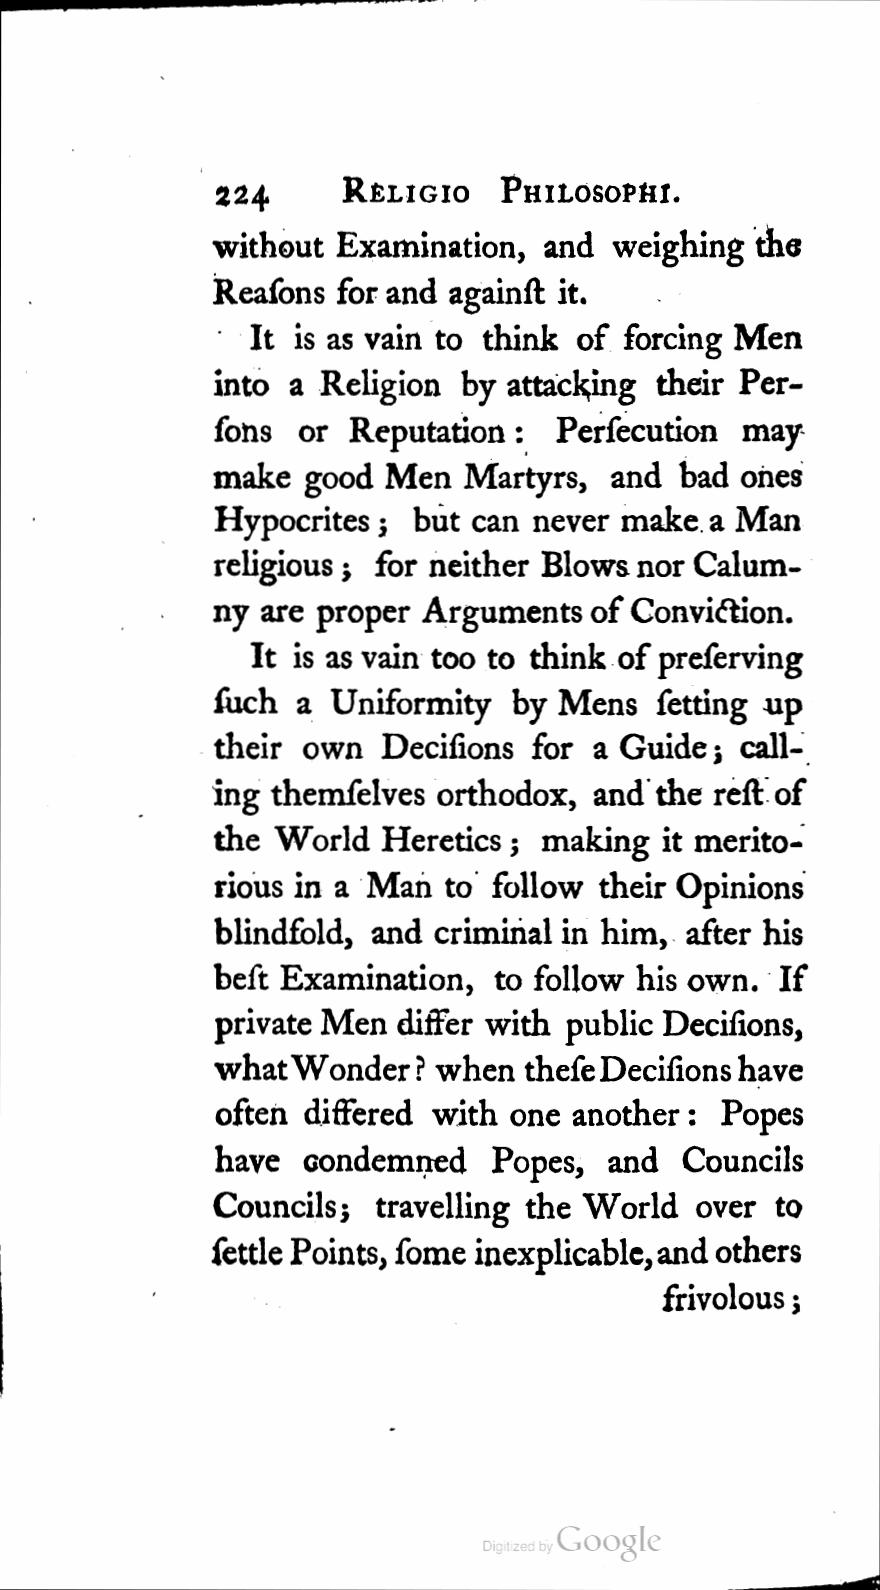bottom_p: (208, 224, 808, 314)
catchword: (658, 1280, 804, 1320)
full_p: (210, 318, 808, 633)
header: (338, 168, 686, 208)
page_num: (212, 175, 274, 212)
top_p: (210, 636, 808, 1276)
